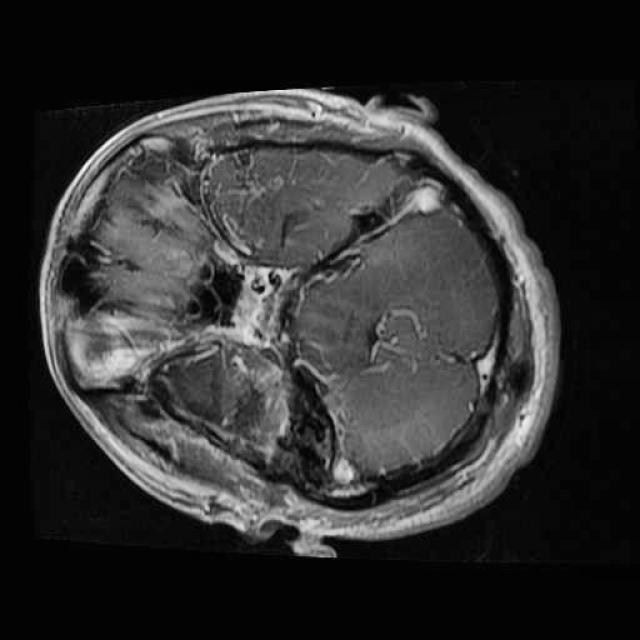Tumor: (202, 335, 296, 465)
